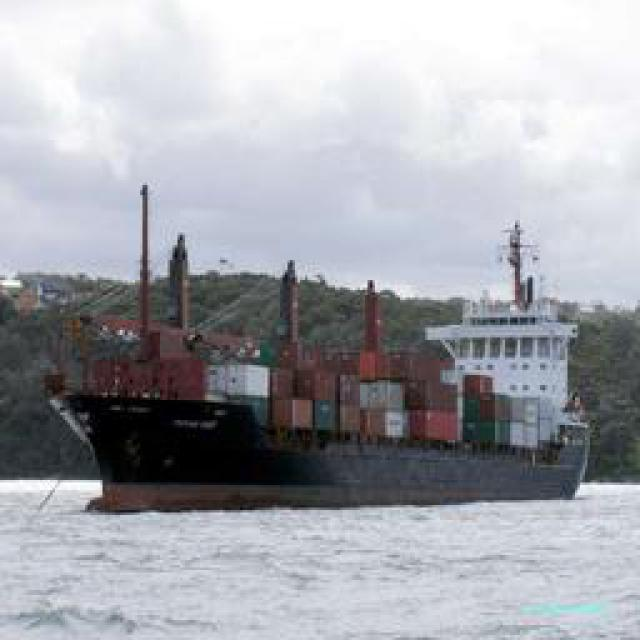Ship: (41, 210, 612, 515)
